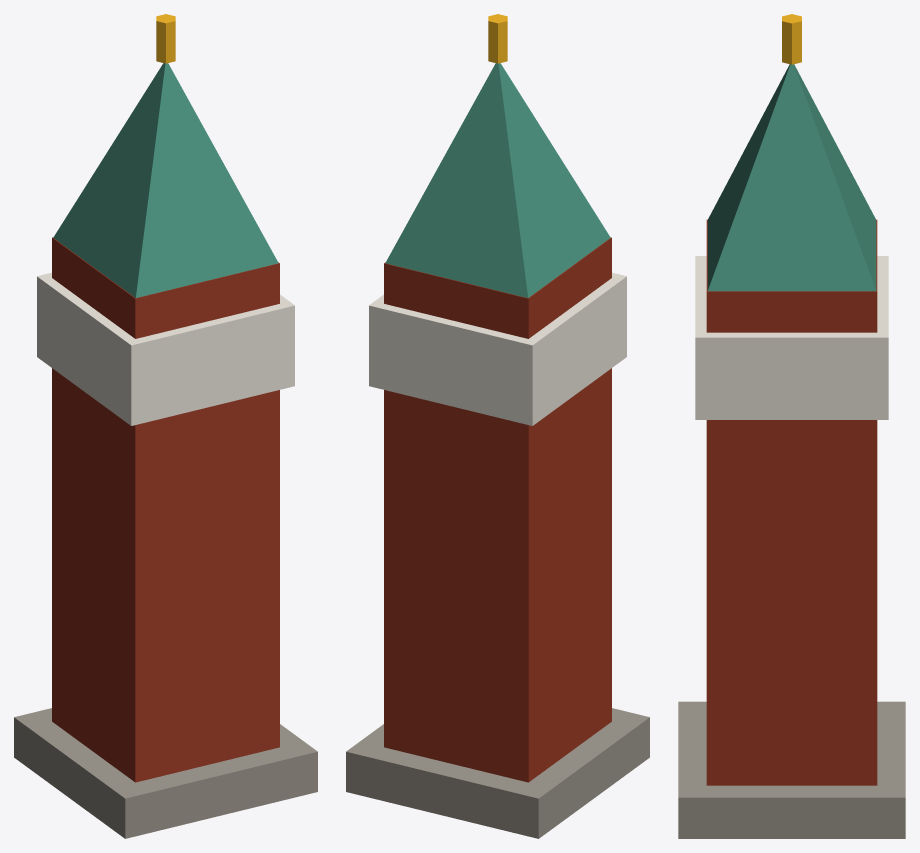
Rendered from campanile.glb.
3 renders of one model, left to right at view 1: azimuth 30°, elevation 25°; view 2: azimuth 150°, elevation 25°; view 3: azimuth 270°, elevation 25°, orthographic. The views are drawn at different scales.
Parts seen in each view (by area): view 1: campanile; view 2: campanile; view 3: campanile.
Part boxes in pixels (x1,y1,x2,y2): campanile: [14, 14, 317, 838]; campanile: [346, 14, 649, 838]; campanile: [678, 14, 905, 838].
Bounding box in the file's own units: 0.4 × 1.5 × 0.4.
